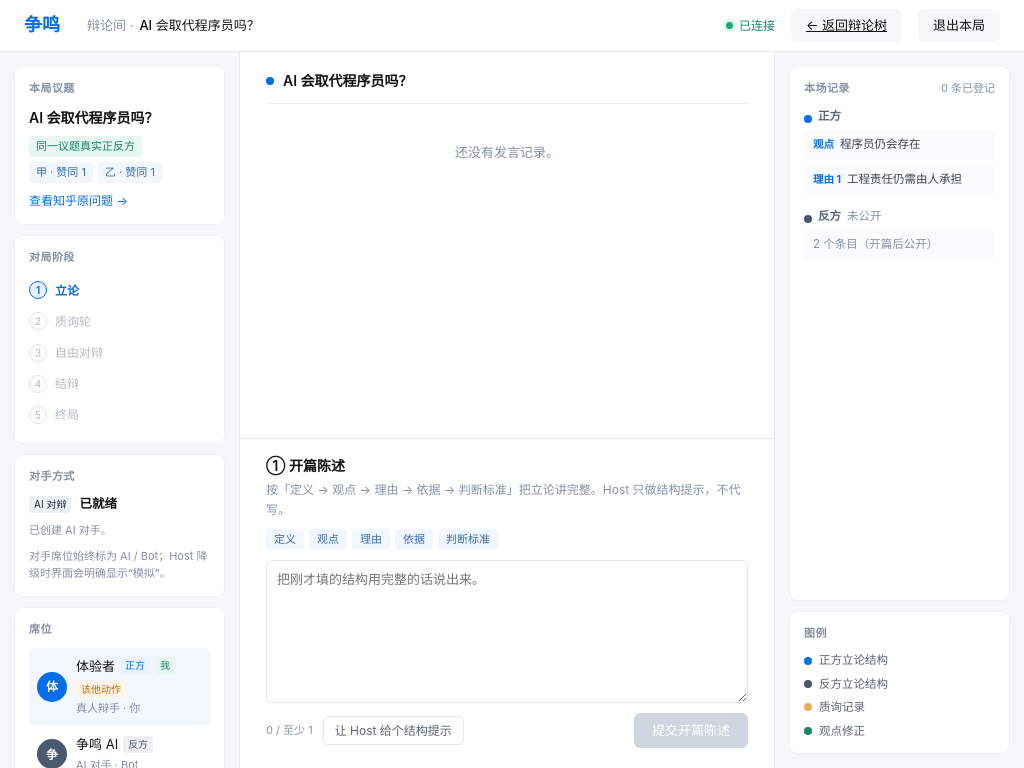
辩论间即时反馈 › 点击提交后立即显示本方内容和 AI 思考态，不等待服务端快照
Type "这是刚刚提交的开篇陈述。" into the text box with placeholder "把刚才填的结构用完整的话说出来。" at (507,632), box [266,560,748,703]
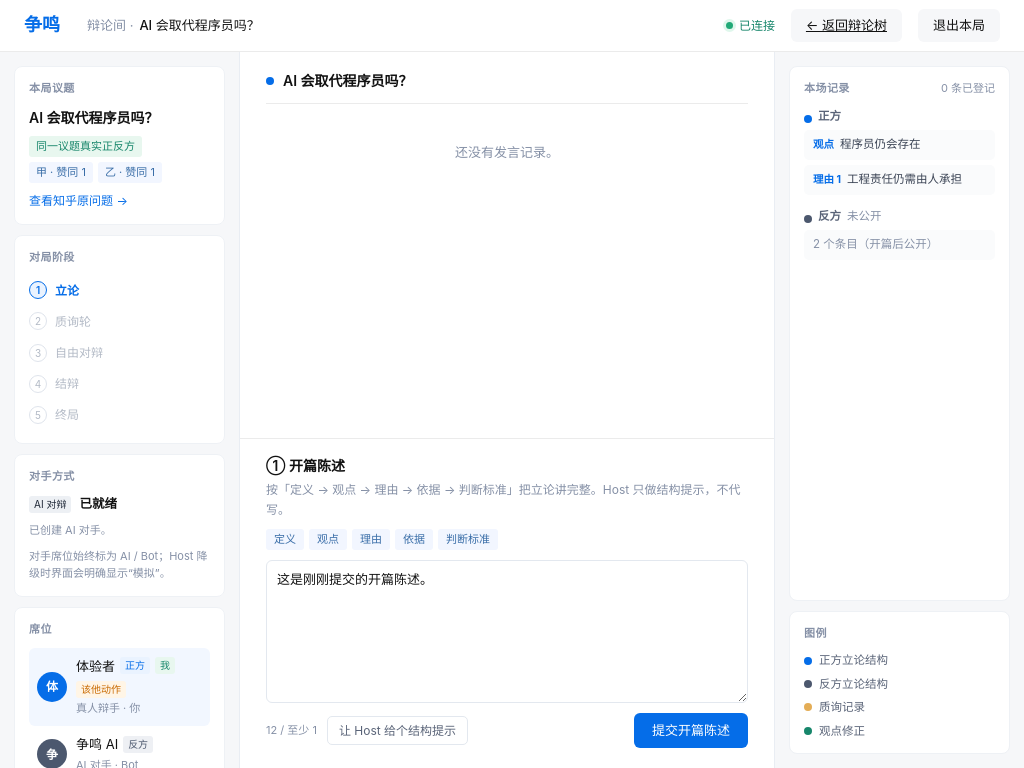
Click the button "提交开篇陈述" at (691,731), box [634,713,748,748]
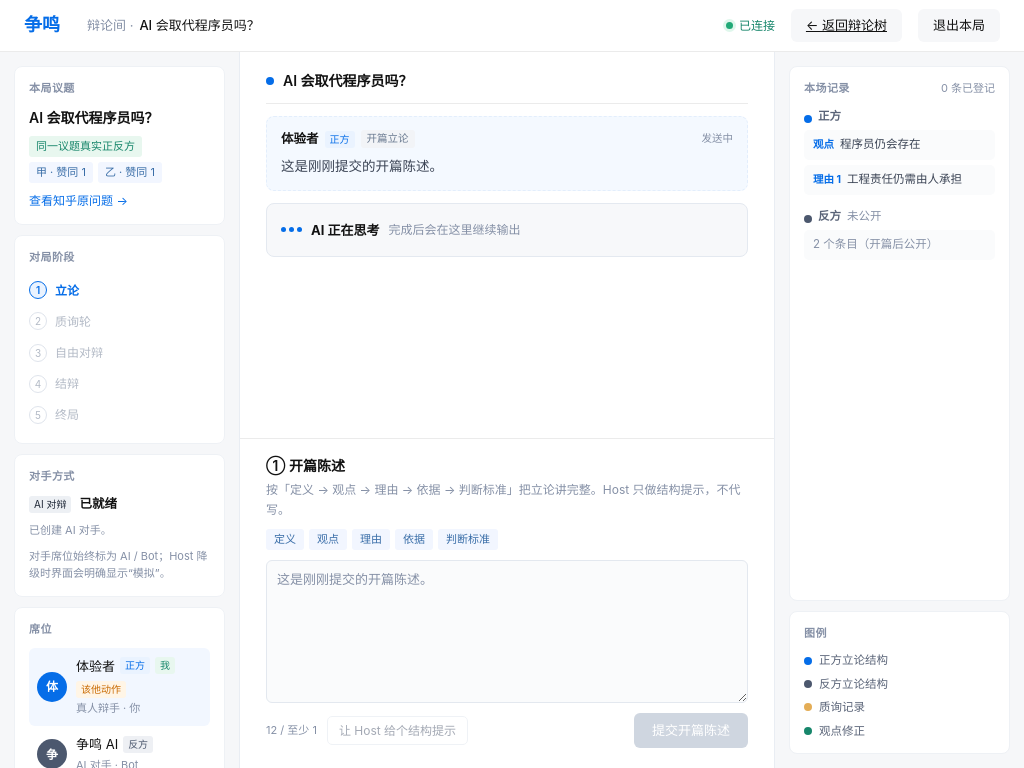
expect the text "这是刚刚提交的开篇陈述。" is shown: met, box [281,158,443,174]
expect the text "发送中" is shown: met, box [702,131,733,147]
expect the message shows "AI 正在思考": met, box [311,222,379,238]
